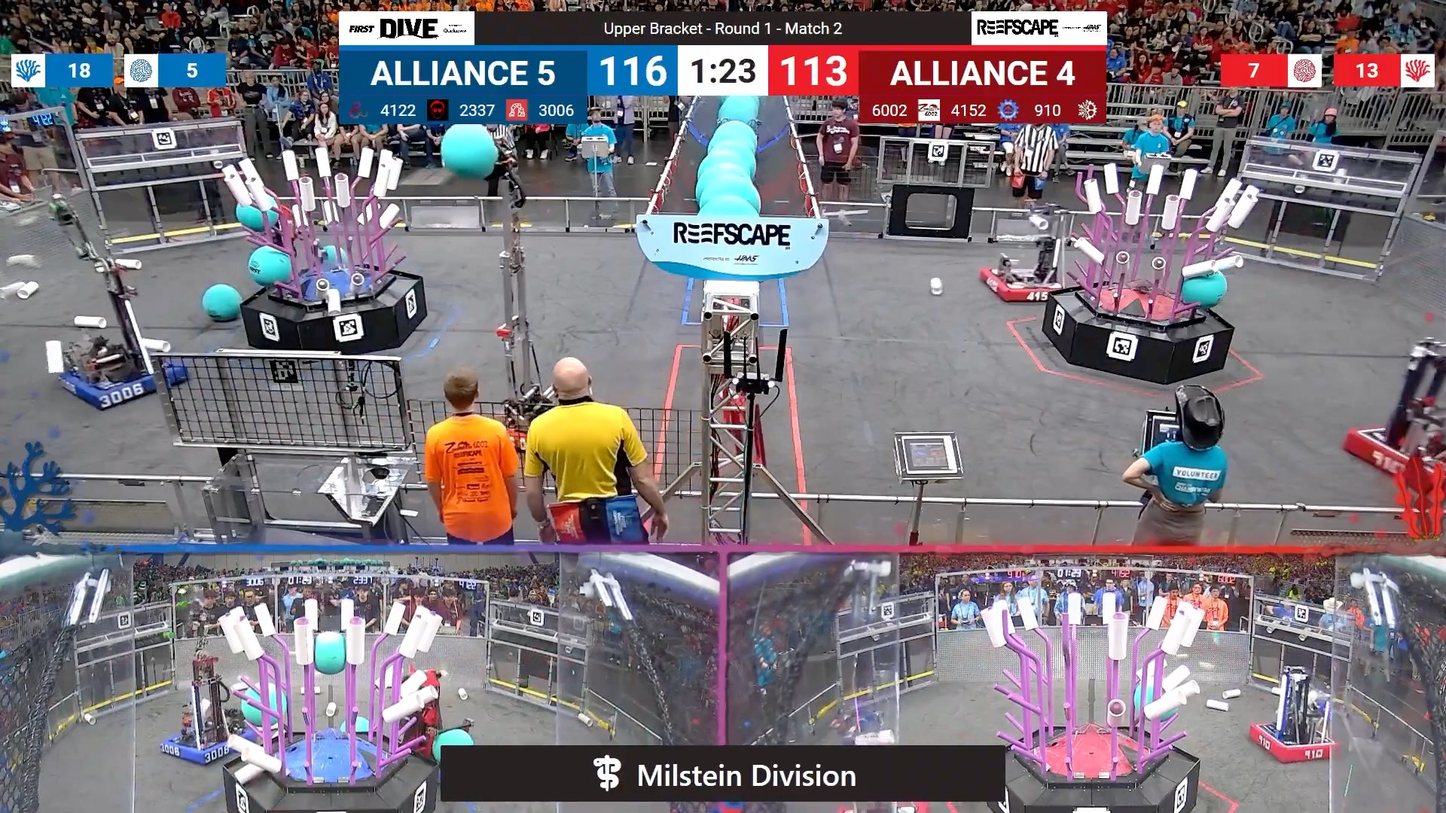bumpers: (51, 352, 196, 409), (1340, 417, 1445, 487), (1243, 718, 1343, 768), (974, 262, 1074, 306), (158, 723, 252, 768)
